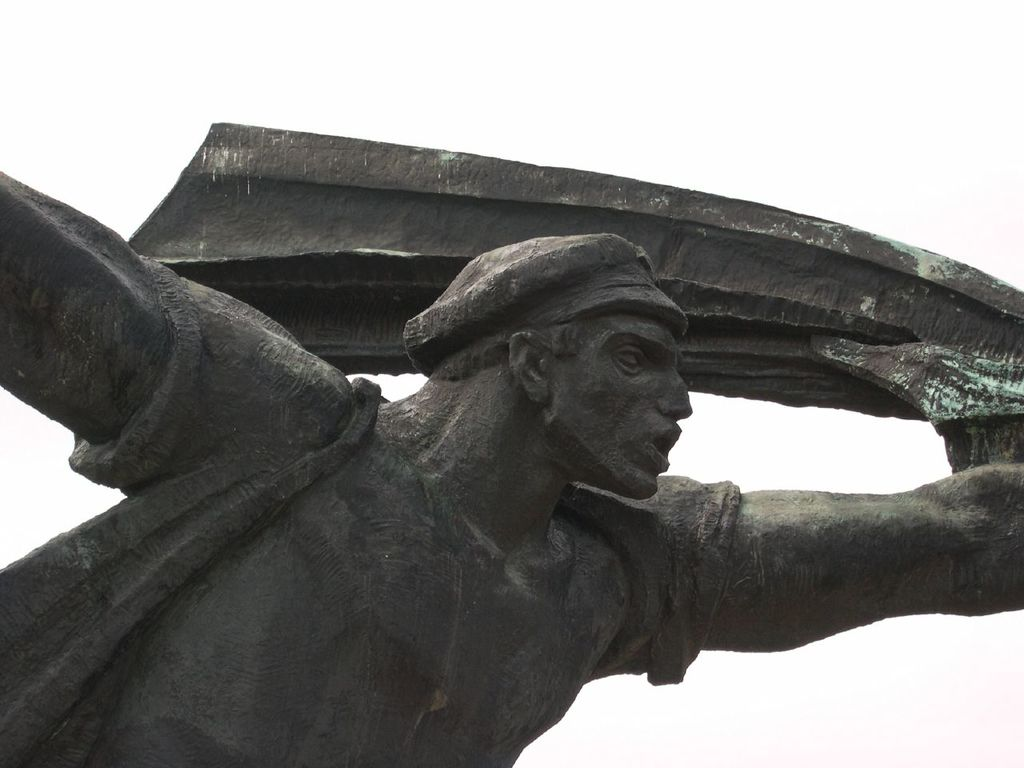face: (543, 289, 695, 494)
